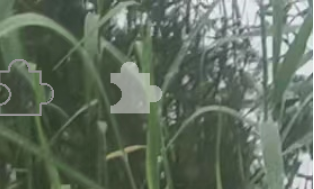target: (101, 59, 168, 120)
